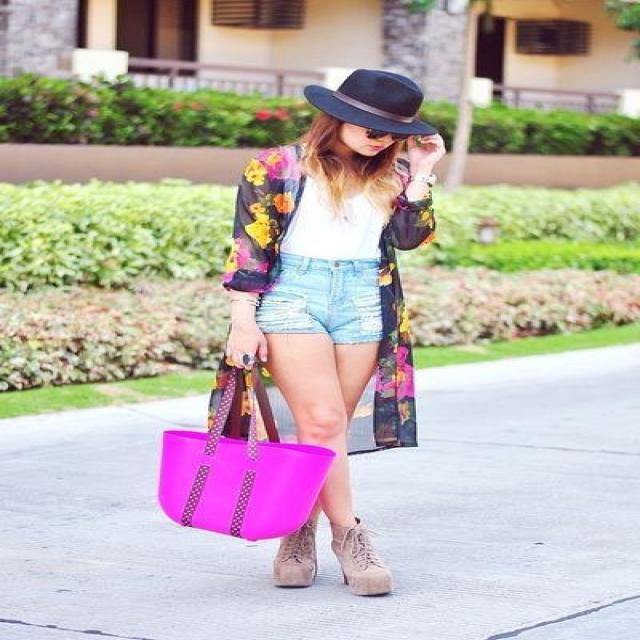bag: (158, 430, 325, 541)
hat: (304, 69, 440, 146)
jacket: (205, 146, 435, 446)
shirt: (280, 192, 387, 259)
shoe: (272, 525, 371, 589)
shorts: (260, 250, 402, 344)
